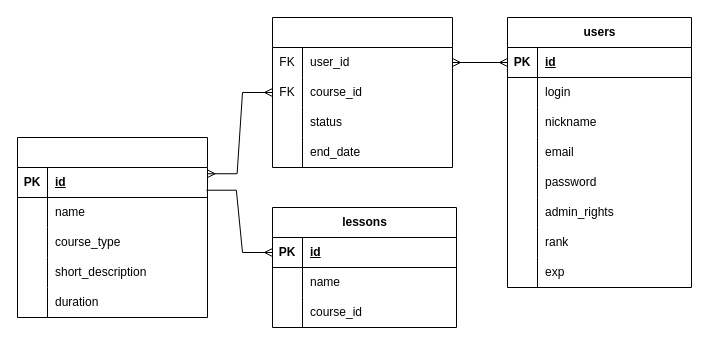
The diagram is 709 pixels wide and 345 high, and some of its shapes have lost their labels. The shapes that lost their labels are listed below. From the top down, each one's box as (x1, y1, x2, y2) in pixels, then its label:
(272, 16, 452, 168): users_courses
(16, 136, 208, 318): courses
